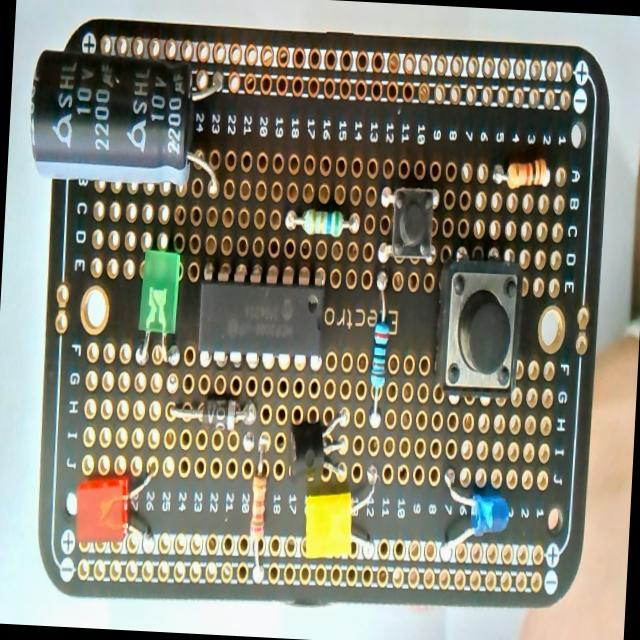Electrolytic capacitor: (17, 35, 235, 218)
IC: (195, 276, 338, 363)
diode: (160, 388, 262, 428)
led: (69, 457, 164, 552), (302, 482, 383, 565), (129, 246, 181, 370), (438, 472, 512, 558)
resistor: (356, 270, 400, 430), (242, 439, 278, 587), (482, 140, 562, 190), (284, 198, 362, 245)
switch: (432, 255, 526, 402)
transistor: (285, 410, 352, 480)
